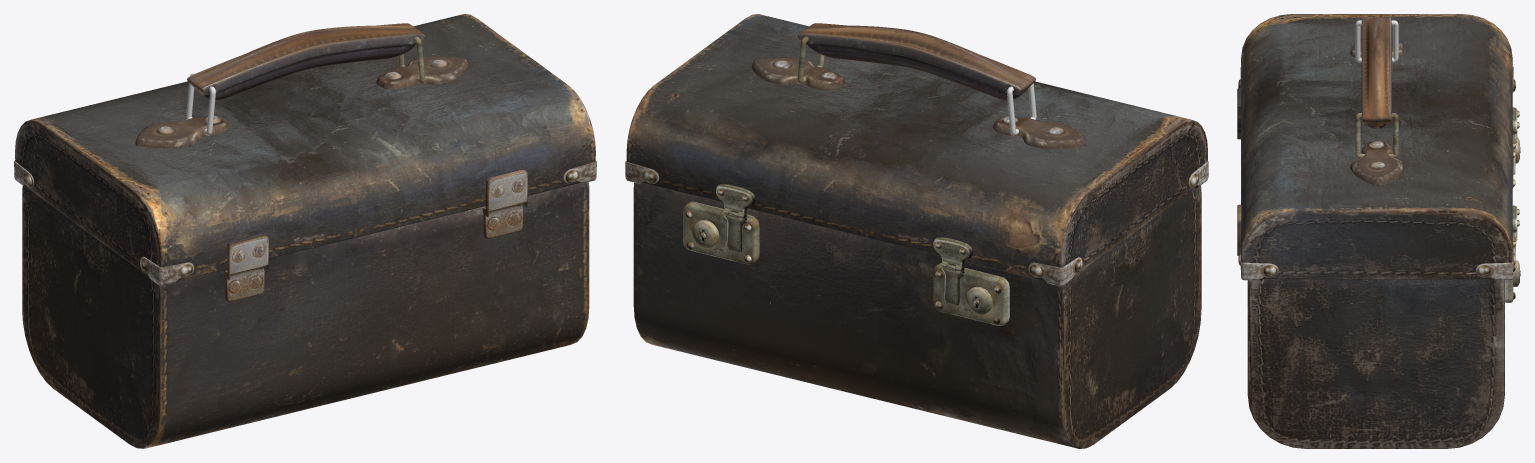
Rendered from Maletin.fbx.
3 renders of one model, left to right at view 1: azimuth 30°, elevation 25°; view 2: azimuth 150°, elevation 25°; view 3: azimuth 270°, elevation 25°, orthographic. The views are drawn at different scales.
Visible parts, largest first — view 1: Tassie, Lid, Handle, Bracket, Hindge02, Hindge01, Corners; view 2: Tassie, Lid, Handle, Plane.004, Bracket, Corners, Clip, Knip; view 3: Lid, Tassie, Handle, Bracket, Corners, Plane.004, Link02, Link, Clip, Hindge02.
Part boxes in pixels (x1=…): Tassie: x1=22, y1=182, x2=589, y2=448; Lid: x1=15, y1=14, x2=595, y2=281; Handle: x1=187, y1=23, x2=424, y2=99; Bracket: x1=135, y1=56, x2=469, y2=148; Hindge02: x1=224, y1=169, x2=527, y2=279; Hindge01: x1=224, y1=203, x2=523, y2=301; Corners: x1=14, y1=160, x2=596, y2=286; Tassie: x1=633, y1=182, x2=1201, y2=448; Lid: x1=626, y1=14, x2=1207, y2=281; Handle: x1=798, y1=23, x2=1035, y2=99; Plane.004: x1=683, y1=201, x2=1009, y2=325; Bracket: x1=751, y1=57, x2=1086, y2=149; Corners: x1=625, y1=161, x2=1208, y2=286; Clip: x1=716, y1=184, x2=973, y2=271; Knip: x1=724, y1=210, x2=964, y2=305; Lid: x1=1241, y1=14, x2=1512, y2=279; Tassie: x1=1247, y1=279, x2=1504, y2=448; Handle: x1=1361, y1=17, x2=1391, y2=128; Bracket: x1=1350, y1=37, x2=1403, y2=185; Corners: x1=1238, y1=66, x2=1515, y2=280; Plane.004: x1=1505, y1=137, x2=1520, y2=302; Link02: x1=1355, y1=113, x2=1398, y2=158; Link: x1=1355, y1=20, x2=1398, y2=62; Clip: x1=1512, y1=107, x2=1519, y2=241; Hindge02: x1=1237, y1=88, x2=1241, y2=255.
Bounding box in the file's own units: 21.3 × 15.39 × 12.75.
4 materials, 2 textured.
